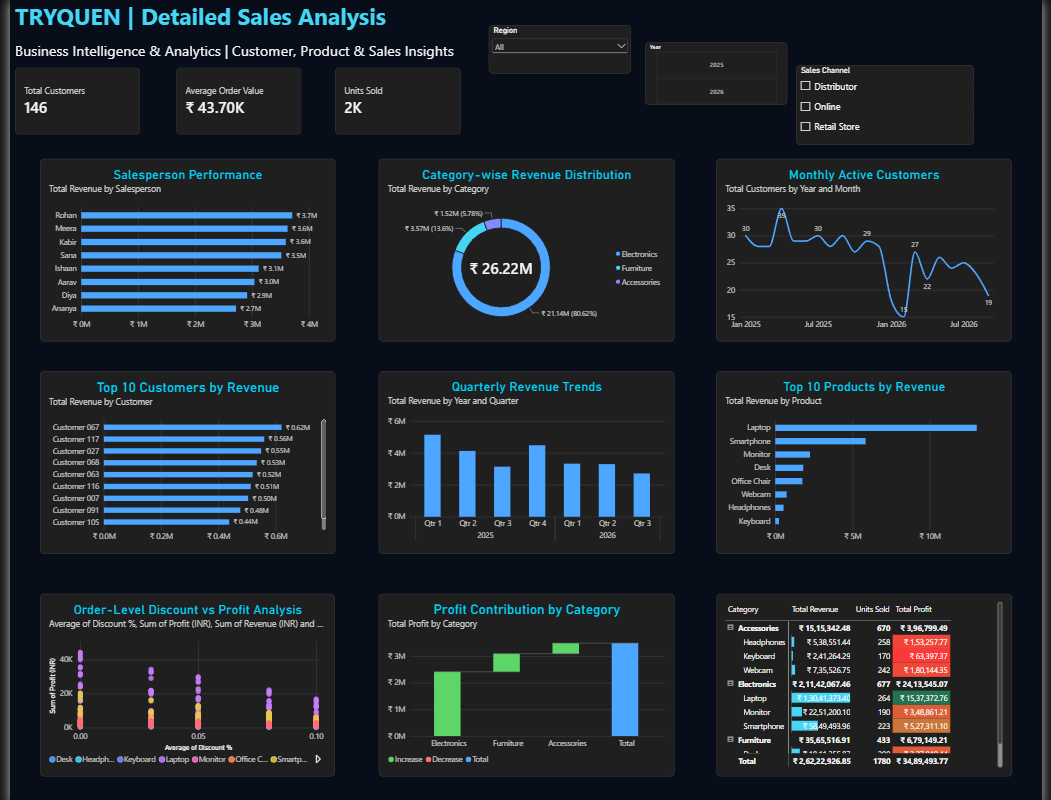

The page's visual inventory and layout, read from the dashboard file:
{"tool":"powerbi","page":{"name":"Detailed Sales Analysis","canvas":[1920,1500],"ordinal":1},"visuals":[{"type":"textbox","box":[10.5,0,828.5,125.6],"z":0},{"type":"cardVisual","fields":{"Data":["Sales Data.Average Order Value"]},"box":[308.7,125.6,233.7,125.6],"z":1},{"type":"cardVisual","fields":{"Data":["Sales Data.Total Customers"]},"box":[10.5,125.6,233.7,125.6],"z":2},{"type":"cardVisual","fields":{"Data":["Sales Data.Units Sold"]},"box":[605.1,125.6,234.6,125.6],"z":3},{"type":"clusteredBarChart","title":"Salesperson Performance","fields":{"Category":["Sales Data.Salesperson"],"Y":["Sales Data.Total Revenue"]},"box":[34.9,295.4,549.6,339.6],"z":4},{"type":"clusteredBarChart","title":"Top 10 Customers by Revenue","fields":{"Category":["Sales Data.Customer"],"Y":["Sales Data.Total Revenue"]},"box":[55.8,690.9,549.6,339.6],"z":5},{"type":"donutChart","title":"Category-wise Revenue Distribution","fields":{"Category":["Sales Data.Category"],"Y":["Sales Data.Total Revenue"]},"box":[656,295.4,550,340],"z":6},{"type":"clusteredColumnChart","title":"Quarterly Revenue Trends","fields":{"Category":["Sales Data.Order Date.Variation.Date Hierarchy.Year","Sales Data.Order Date.Variation.Date Hierarchy.Quarter"],"Y":["Sales Data.Total Revenue"]},"box":[656,690.9,550,340],"z":7},{"type":"clusteredBarChart","title":"Top 10 Products by Revenue","fields":{"Category":["Sales Data.Product"],"Y":["Sales Data.Total Revenue"]},"box":[1260.9,690.9,549.6,339.6],"z":8},{"type":"lineChart","title":"Monthly Active Customers","fields":{"Category":["Sales Data.Order Date.Variation.Date Hierarchy.Year","Sales Data.Order Date.Variation.Date Hierarchy.Month"],"Y":["Sales Data.Total Customers"]},"box":[1260.9,295.4,549.6,339.6],"z":9},{"type":"scatterChart","title":"Order-Level Discount vs Profit Analysis","fields":{"Category":["Sales Data.Order ID"],"Series":["Sales Data.Product"],"X":["Avg(Sales Data.Discount %)"],"Y":["Sum(Sales Data.Profit (INR))"]},"box":[34.9,1105,549,339.6],"z":10},{"type":"waterfallChart","title":"Profit Contribution by Category","fields":{"Category":["Sales Data.Category"],"Y":["Sales Data.Total Profit"]},"box":[656,1105,550,340],"z":11},{"type":"pivotTable","fields":{"Rows":["Sales Data.Category","Sales Data.Product"],"Values":["Sales Data.Total Revenue","Sales Data.Units Sold","Sales Data.Total Profit"]},"box":[1261,1105,550,340],"z":12},{"type":"slicer","fields":{"Values":["Sales Data.Year"]},"box":[1181.8,79.1,265.2,116.3],"z":13},{"type":"slicer","fields":{"Values":["Sales Data.Region"]},"box":[891,46.5,265.2,90.7],"z":14},{"type":"slicer","fields":{"Values":["Sales Data.Sales Channel"]},"box":[1463.3,121,330.3,148.9],"z":15}]}

Visuals, with their boxes in screenshot pixels (x1, y1, x2, y2), scaled from the page's 1920x1500 canvas onto the 1051x800 screenshot:
textbox: (6,0,459,67)
cardVisual - Sales Data.Average Order Value: (169,67,297,134)
cardVisual - Sales Data.Total Customers: (6,67,134,134)
cardVisual - Sales Data.Units Sold: (331,67,460,134)
"Salesperson Performance" clusteredBarChart: (19,158,320,339)
"Top 10 Customers by Revenue" clusteredBarChart: (31,368,331,550)
"Category-wise Revenue Distribution" donutChart: (359,158,660,339)
"Quarterly Revenue Trends" clusteredColumnChart: (359,368,660,550)
"Top 10 Products by Revenue" clusteredBarChart: (690,368,991,550)
"Monthly Active Customers" lineChart: (690,158,991,339)
"Order-Level Discount vs Profit Analysis" scatterChart: (19,589,320,770)
"Profit Contribution by Category" waterfallChart: (359,589,660,771)
pivotTable - Sales Data.Category x Sales Data.Product: (690,589,991,771)
slicer - Sales Data.Year: (647,42,792,104)
slicer - Sales Data.Region: (488,25,633,73)
slicer - Sales Data.Sales Channel: (801,65,982,144)
